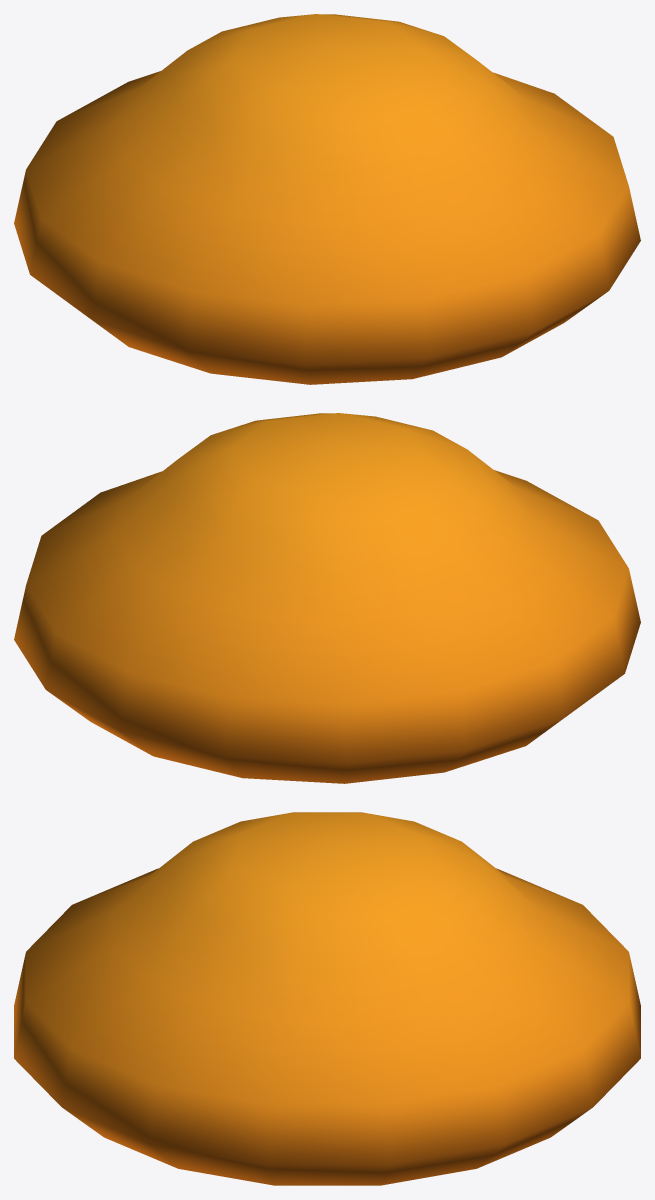
Rendered from Bush_3_A_Color6.fbx.
The picture shows the model from 3 angles, top to bottom: view 1: azimuth 30°, elevation 25°; view 2: azimuth 150°, elevation 25°; view 3: azimuth 270°, elevation 25°; orthographic projection.
Visible parts, largest first — view 1: Bush_3_A_Color6; view 2: Bush_3_A_Color6; view 3: Bush_3_A_Color6.
Boxes of the visible parts, x1=… form: Bush_3_A_Color6: x1=14, y1=14, x2=640, y2=384; Bush_3_A_Color6: x1=14, y1=413, x2=640, y2=783; Bush_3_A_Color6: x1=14, y1=812, x2=640, y2=1185.
Bounding box in the file's own units: 1.03 × 0.4853 × 1.03.
